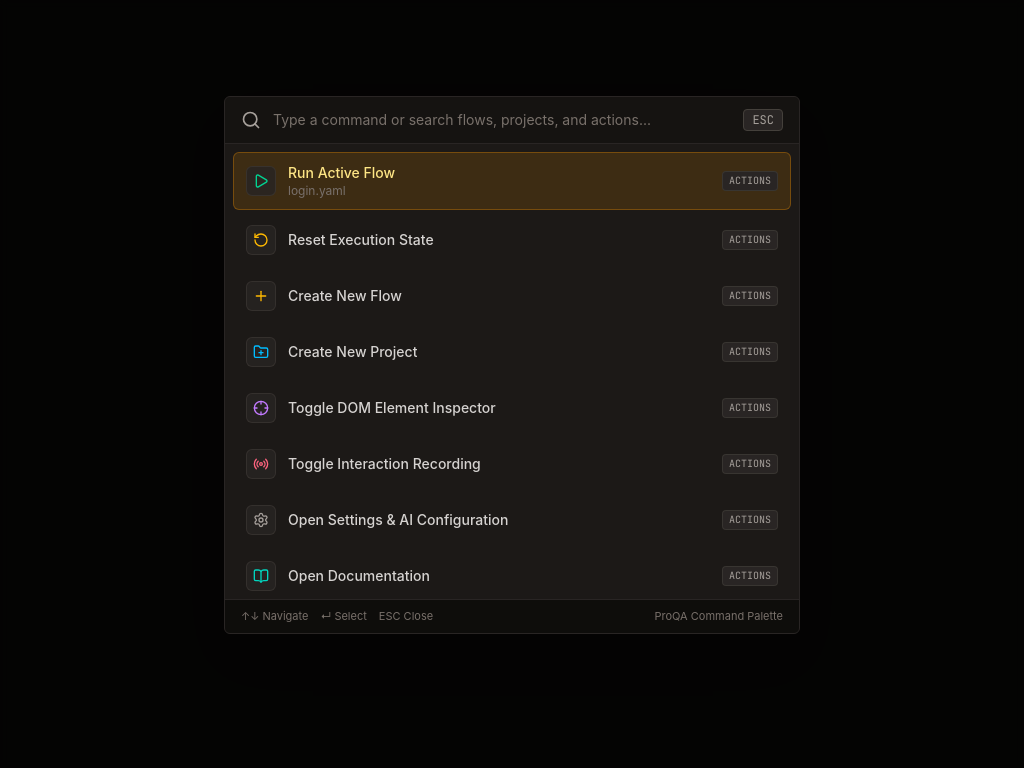
Test: CommandPalette › shows no results message when search yields nothing
Type "nonexistent-query-xyz" into the dropdown at [504, 120], box [273, 110, 735, 130]
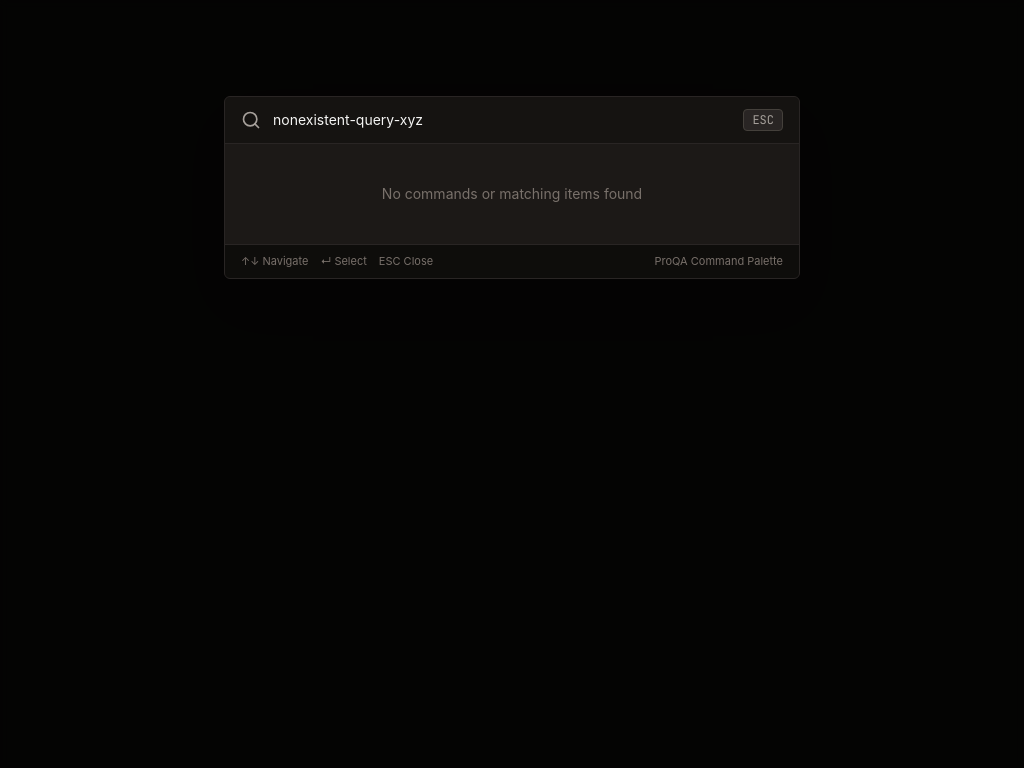
Check: the text "No commands or matching items found" is shown, box [382, 185, 642, 202]
